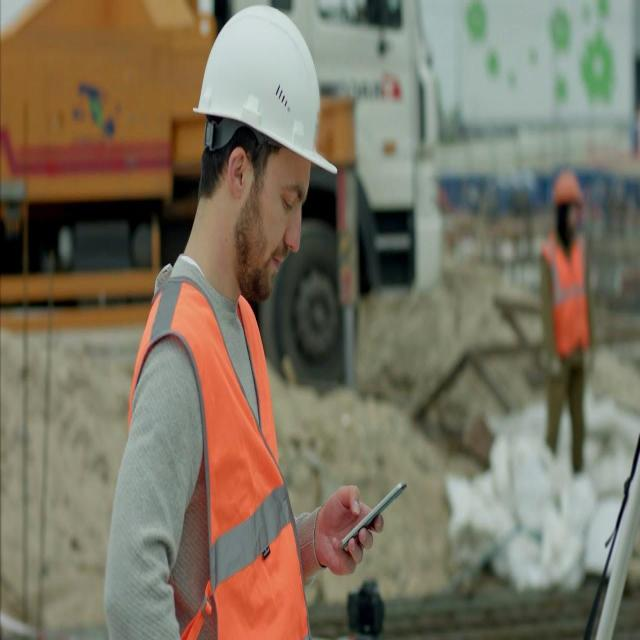Reflective-Jacket: (124, 266, 308, 640), (536, 230, 596, 380)
Safety-Helmet: (191, 7, 335, 181), (548, 161, 588, 219)
